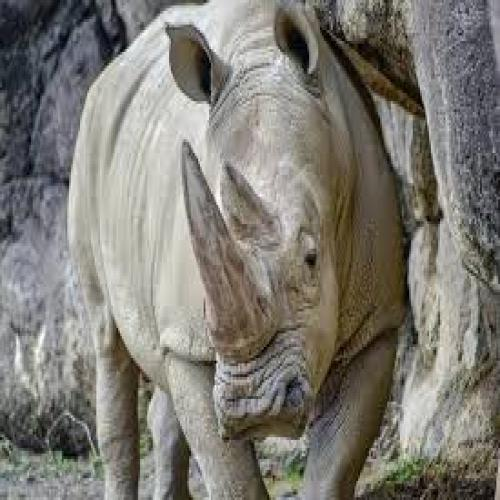rhino-endangered: (69, 0, 410, 499)
